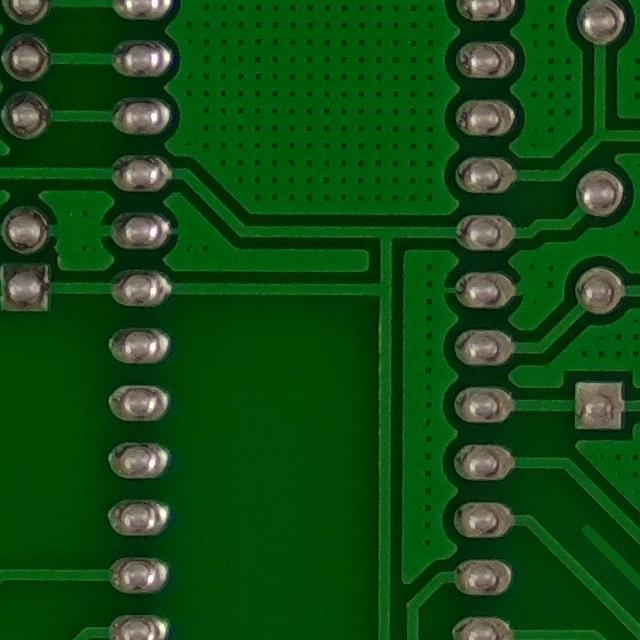spurious_copper: (569, 516, 640, 639)
